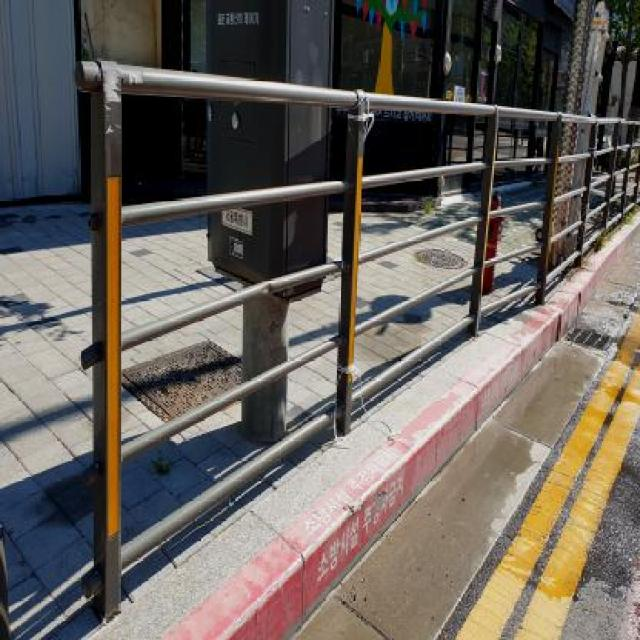bump: (127, 436, 419, 640)
fence: (66, 23, 392, 556)
